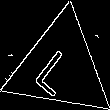L_NE: (34, 37, 86, 97)
